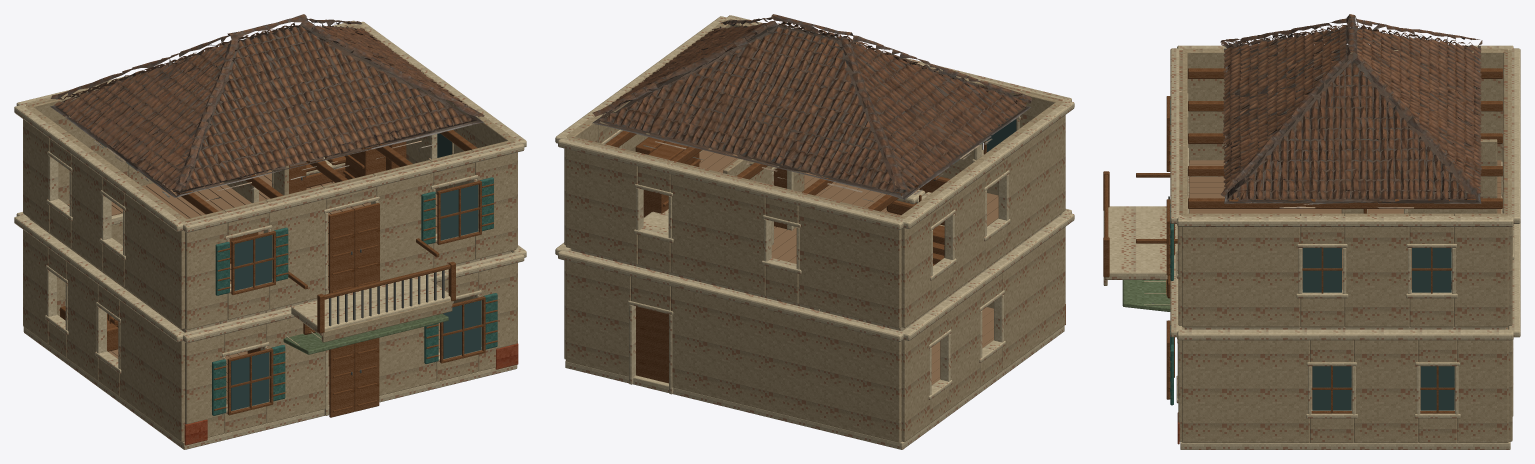
The model's file is tropical_shop_a.glb.
3 renders of one model, left to right at view 1: azimuth 30°, elevation 25°; view 2: azimuth 150°, elevation 25°; view 3: azimuth 270°, elevation 25°, orthographic. The views are drawn at different scales.
Visible parts, largest first — view 1: Roof_Meshy, Exterior_Walls_Upper, Exterior_Details, Exterior_Walls_Ground, Accessible_Balcony, Ground_Floor, Upper_Floor, Exterior_Details_Upper, Exterior_Details_Ground, Interior_Walls_Upper, Residence_Furniture, Balcony door left_Leaf (+3 smaller); view 2: Exterior_Walls_Upper, Roof_Meshy, Exterior_Walls_Ground, Exterior_Details, Ground_Floor, Upper_Floor, Exterior_Details_Upper, Exterior_Details_Ground, Residence_Furniture, Rear service door_Leaf, Interior_Walls_Upper; view 3: Roof_Meshy, Exterior_Walls_Upper, Exterior_Walls_Ground, Exterior_Details, Interior_Walls_Upper, Accessible_Balcony, Upper_Floor, Exterior_Details_Upper, Ground_Floor, Exterior_Details_Ground.
Boxes of the visible parts, box(x1,y1,x2,y2) form: Roof_Meshy: box(50, 14, 484, 200); Exterior_Walls_Upper: box(23, 24, 517, 329); Exterior_Details: box(14, 20, 526, 415); Exterior_Walls_Ground: box(23, 218, 518, 445); Accessible_Balcony: box(288, 238, 455, 342); Ground_Floor: box(23, 323, 517, 449); Upper_Floor: box(30, 170, 510, 332); Exterior_Details_Upper: box(46, 129, 478, 294); Exterior_Details_Ground: box(45, 171, 481, 415); Interior_Walls_Upper: box(62, 41, 477, 214); Residence_Furniture: box(229, 141, 406, 263); Balcony door left_Leaf: box(328, 209, 354, 293); Exterior_Walls_Upper: box(564, 18, 1065, 328); Roof_Meshy: box(592, 14, 1031, 201); Exterior_Walls_Ground: box(564, 215, 1065, 442); Exterior_Details: box(555, 15, 1074, 341); Ground_Floor: box(565, 307, 1064, 449); Upper_Floor: box(571, 148, 1058, 330); Exterior_Details_Upper: box(601, 116, 1020, 280); Exterior_Details_Ground: box(628, 166, 1005, 399); Residence_Furniture: box(635, 136, 950, 232); Rear service door_Leaf: box(636, 306, 668, 383); Interior_Walls_Upper: box(605, 97, 1026, 244); Roof_Meshy: box(1220, 14, 1482, 208); Exterior_Walls_Upper: box(1178, 48, 1512, 327); Exterior_Walls_Ground: box(1177, 327, 1512, 444); Exterior_Details: box(1122, 45, 1520, 413); Interior_Walls_Upper: box(1188, 68, 1502, 249); Accessible_Balcony: box(1103, 171, 1177, 285); Upper_Floor: box(1184, 160, 1505, 329); Exterior_Details_Upper: box(1176, 93, 1514, 298); Ground_Floor: box(1180, 366, 1510, 449); Exterior_Details_Ground: box(1176, 209, 1513, 418).
Size of the model in its own units: 10.82 by 9.58 by 10.86.
Materials: 11 (8 with a texture image).
